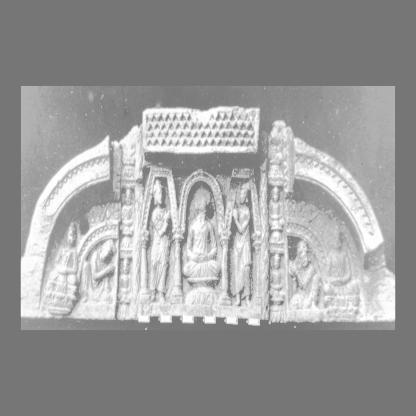buddha-sitting: (184, 186, 221, 305), (324, 227, 360, 319), (46, 222, 78, 316)
